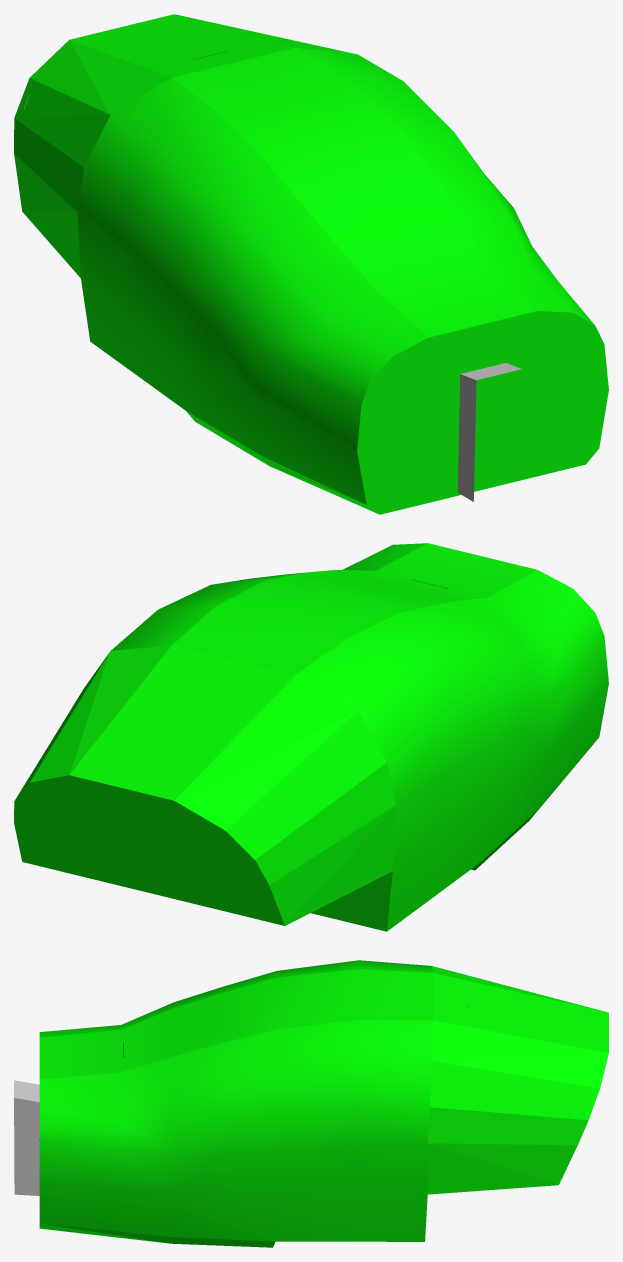
File: VL3_cockpit_lod3.gltf
The picture shows the model from 3 angles, top to bottom: view 1: azimuth 30°, elevation 25°; view 2: azimuth 150°, elevation 25°; view 3: azimuth 270°, elevation 25°; orthographic projection. The views are drawn at different scales.
Parts seen in each view (by area): view 1: Occluder, Main_Panel; view 2: Occluder; view 3: Occluder, Main_Panel.
Boxes of the visible parts, bbox=[...] form: Occluder: bbox=[14, 14, 608, 514]; Main_Panel: bbox=[24, 94, 521, 501]; Occluder: bbox=[14, 543, 608, 931]; Occluder: bbox=[39, 960, 608, 1247]; Main_Panel: bbox=[14, 1080, 274, 1244].
Size of what is drawn, in the model's own units: 1.13 by 0.8652 by 2.32.
